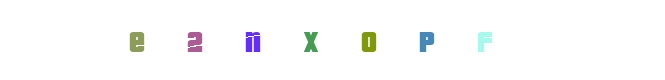2: (173, 0, 253, 80)
E: (155, 0, 235, 80)
F: (422, 0, 502, 80)
N: (212, 0, 292, 80)
O: (328, 0, 408, 80)
P: (386, 0, 466, 80)
X: (293, 0, 373, 80)
